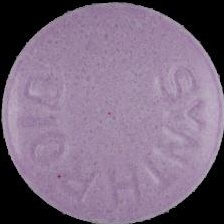0074-7070: (0, 0, 224, 224)
